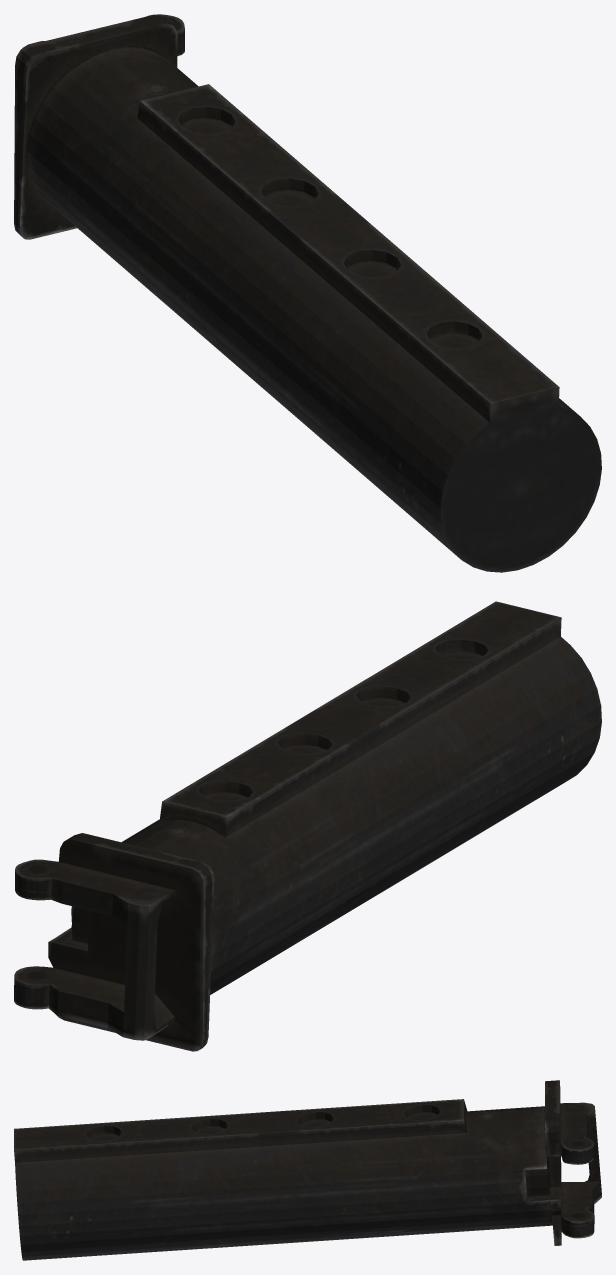
3 renders of one model, top to bottom at view 1: azimuth 30°, elevation 25°; view 2: azimuth 150°, elevation 25°; view 3: azimuth 270°, elevation 25°, orthographic. The views are drawn at different scales.
Visible parts, largest first — view 1: TW_5beec8b20db834001961942a_PZ_Import; view 2: TW_5beec8b20db834001961942a_PZ_Import; view 3: TW_5beec8b20db834001961942a_PZ_Import.
Boxes of the visible parts, x1,y1,x2,y2 form: TW_5beec8b20db834001961942a_PZ_Import: (14,14,601,572); TW_5beec8b20db834001961942a_PZ_Import: (14,601,601,1051); TW_5beec8b20db834001961942a_PZ_Import: (14,1080,601,1260).
Size of the model in its own units: 0.0214 by 0.0931 by 0.0265.
1 material, 1 textured.
